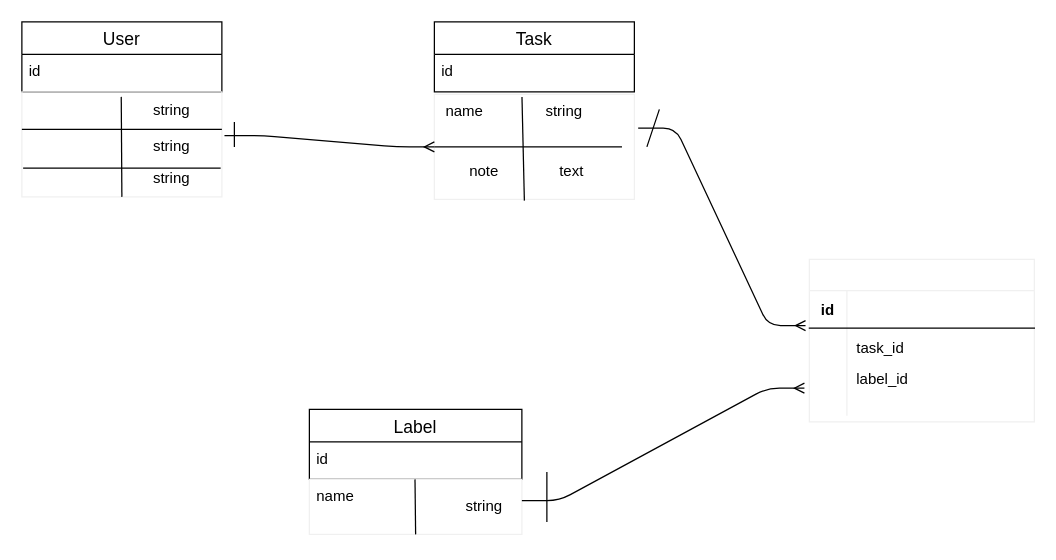
This 1056x560 diagram has some shape labels left out. The box of each missing label's shape, as (x1, y1, x2, y2) in pixels:
labeling: (808, 258, 1034, 422)
name email password: (21, 91, 222, 197)
